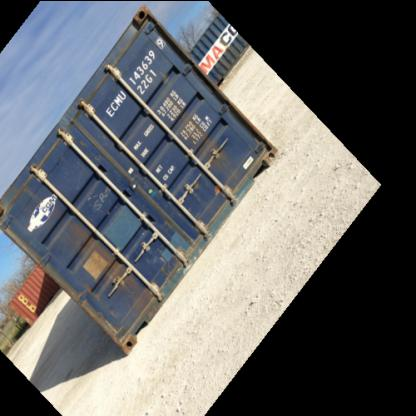Damage: (162, 104, 228, 162), (76, 244, 132, 290), (149, 242, 183, 282), (13, 182, 42, 208), (132, 7, 154, 24)
